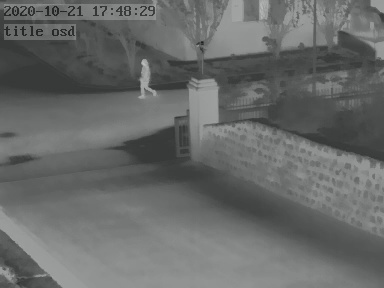person: (139, 57, 154, 99)
